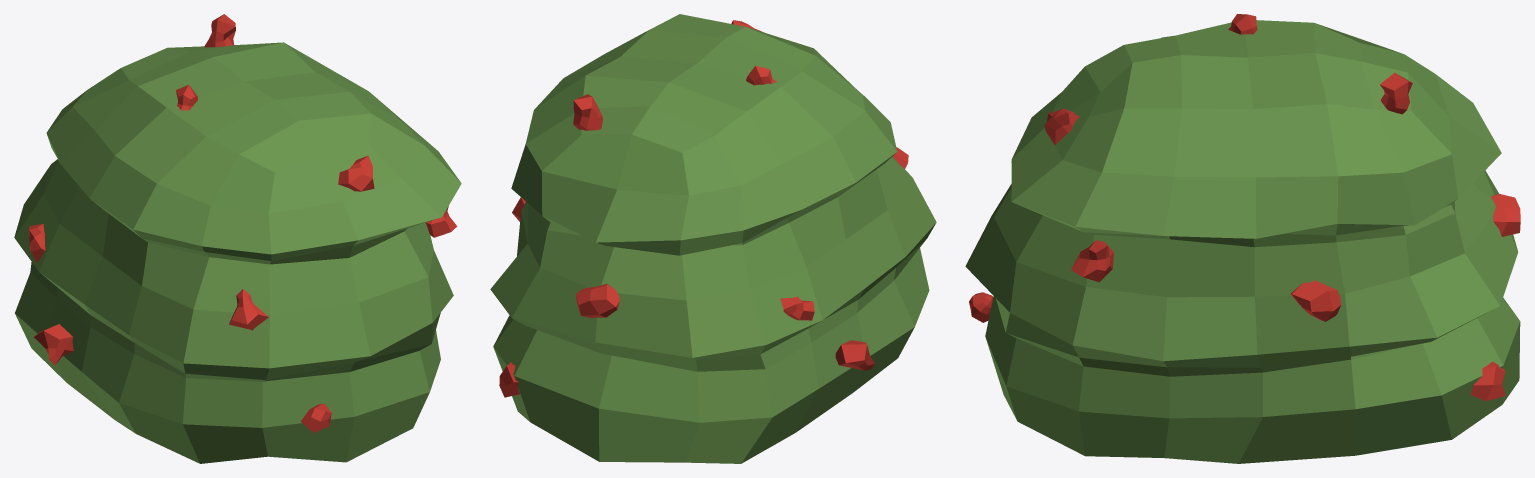
File: buisson_baies.glb
3 views of the same model, side by side, from view 1: azimuth 30°, elevation 25°; view 2: azimuth 150°, elevation 25°; view 3: azimuth 270°, elevation 25° (orthographic). The views are drawn at different scales.
Visible parts, largest first — view 1: buisson_baies; view 2: buisson_baies; view 3: buisson_baies.
Boxes of the visible parts, box(x1,y1,x2,y2) form: buisson_baies: box(14, 14, 461, 463); buisson_baies: box(490, 14, 936, 463); buisson_baies: box(965, 14, 1520, 463).
Bounding box in the file's own units: 1.64 × 1.5 × 2.02.
